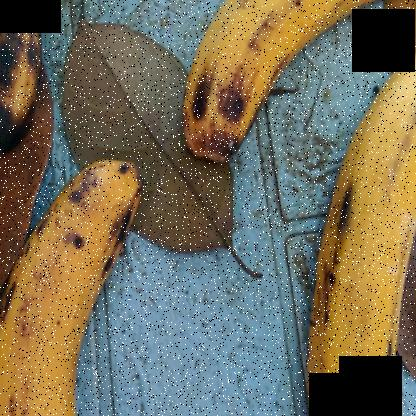overripe: (0, 160, 156, 415), (0, 1, 63, 155)
ripe: (300, 27, 415, 416), (179, 1, 386, 160)
